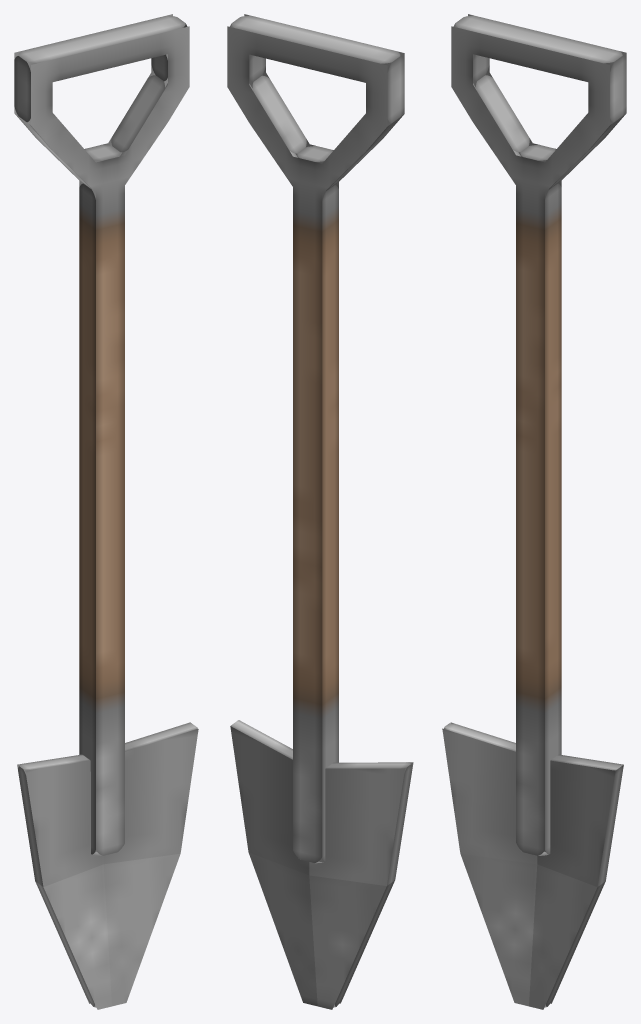
The model's file is Shovel.fbx.
The picture shows the model from 3 angles, left to right: view 1: azimuth 30°, elevation 25°; view 2: azimuth 150°, elevation 25°; view 3: azimuth 330°, elevation 25°; orthographic projection.
Visible parts, largest first — view 1: handle, shovel; view 2: handle, shovel; view 3: handle, shovel.
Boxes of the visible parts, x1=… form: handle: x1=14, y1=14, x2=189, y2=855; shovel: x1=17, y1=722, x2=198, y2=1009; handle: x1=227, y1=14, x2=404, y2=863; shovel: x1=230, y1=720, x2=413, y2=1009; handle: x1=451, y1=14, x2=626, y2=855; shovel: x1=442, y1=722, x2=623, y2=1009.
Bounding box in the file's own units: 37.5 × 198 × 6.88.
Materials: 1 (1 with a texture image).
